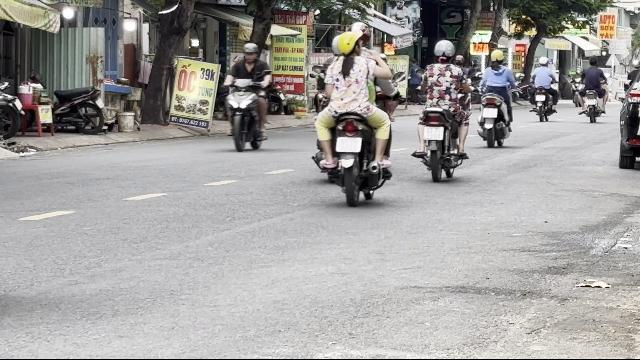helmet: (331, 30, 359, 57), (350, 22, 370, 50), (432, 40, 456, 62), (242, 41, 260, 62), (489, 48, 505, 66)
licenseplate: (336, 137, 362, 153), (424, 127, 444, 140), (483, 108, 497, 118)
motorcyclist: (311, 22, 397, 204), (411, 38, 472, 180), (222, 41, 272, 151), (476, 49, 516, 147)
